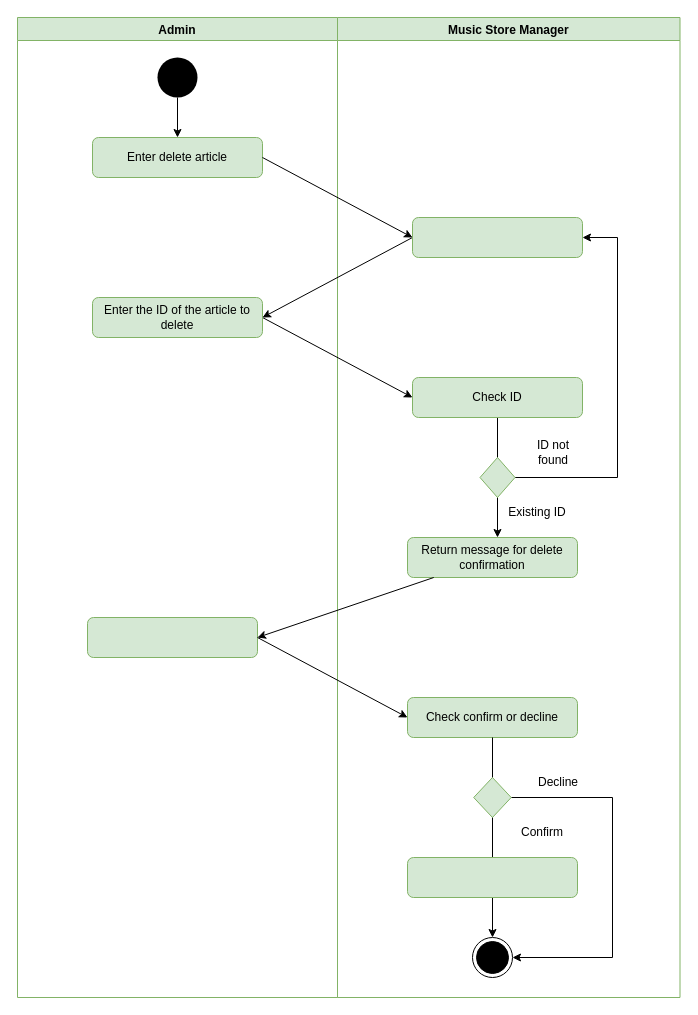
The diagram is 698 pixels wide and 1015 high, and some of its shapes have lost their labels. Here are the shapes that lost their labels. From the top down, the box of each, then its label:
(412, 216, 582, 258): Ask for the ID to dekete
(86, 616, 258, 658): Confirm or decline delete article
(406, 856, 578, 898): Delete selected article
